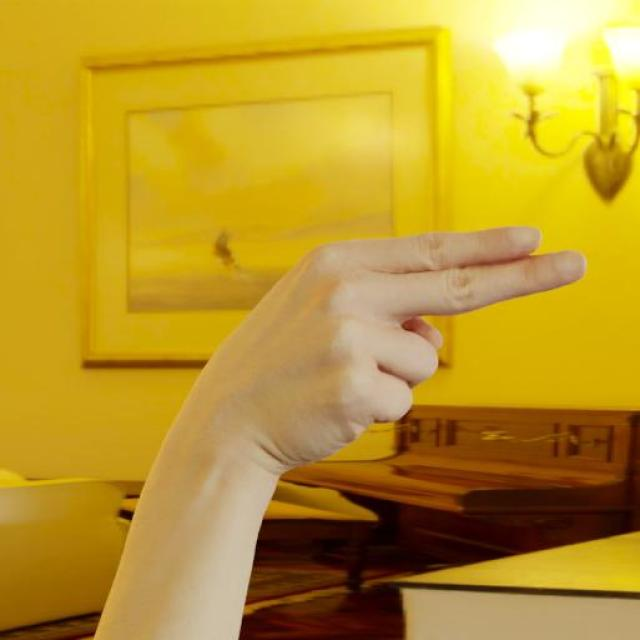H: (218, 224, 587, 467)
